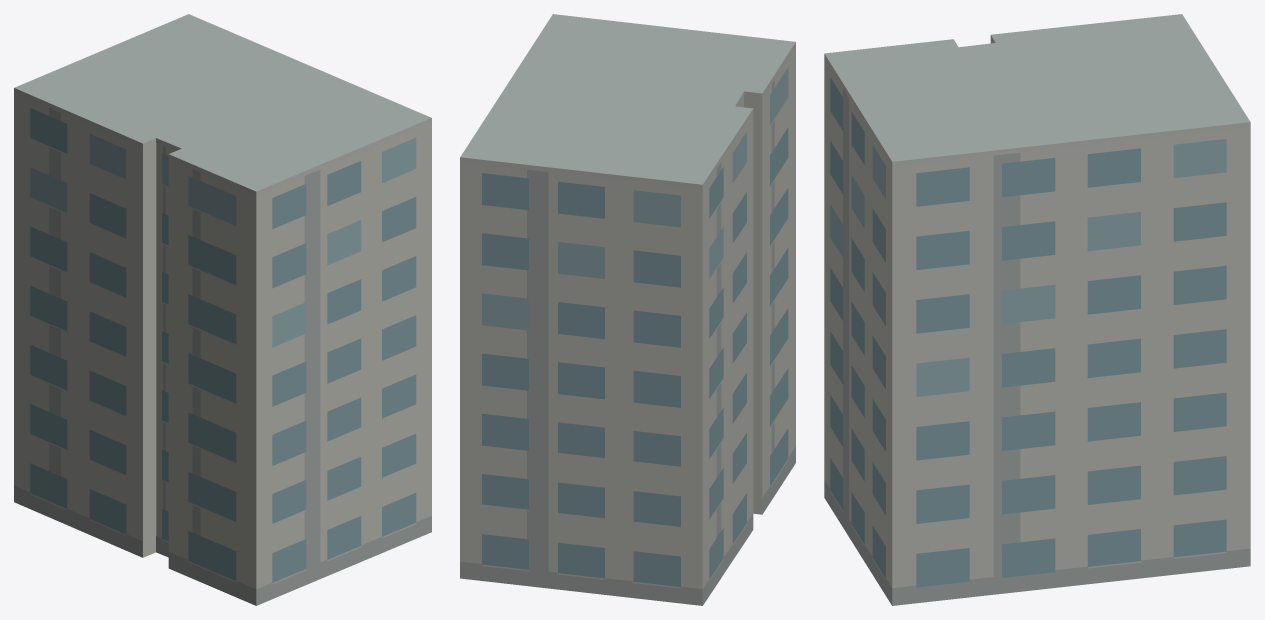
The model's file is survey-upis-32562238.glb.
3 renders of one model, left to right at view 1: azimuth 30°, elevation 25°; view 2: azimuth 150°, elevation 25°; view 3: azimuth 270°, elevation 25°, orthographic. The views are drawn at different scales.
Parts seen in each view (by area): view 1: survey-upis-32562238.tmp; view 2: survey-upis-32562238.tmp; view 3: survey-upis-32562238.tmp.
Part boxes in pixels (x1,y1,x2,y2): survey-upis-32562238.tmp: [14, 14, 431, 605]; survey-upis-32562238.tmp: [460, 14, 795, 605]; survey-upis-32562238.tmp: [824, 14, 1250, 605].
Bounding box in the file's own units: 15.25 × 21.35 × 18.59.
